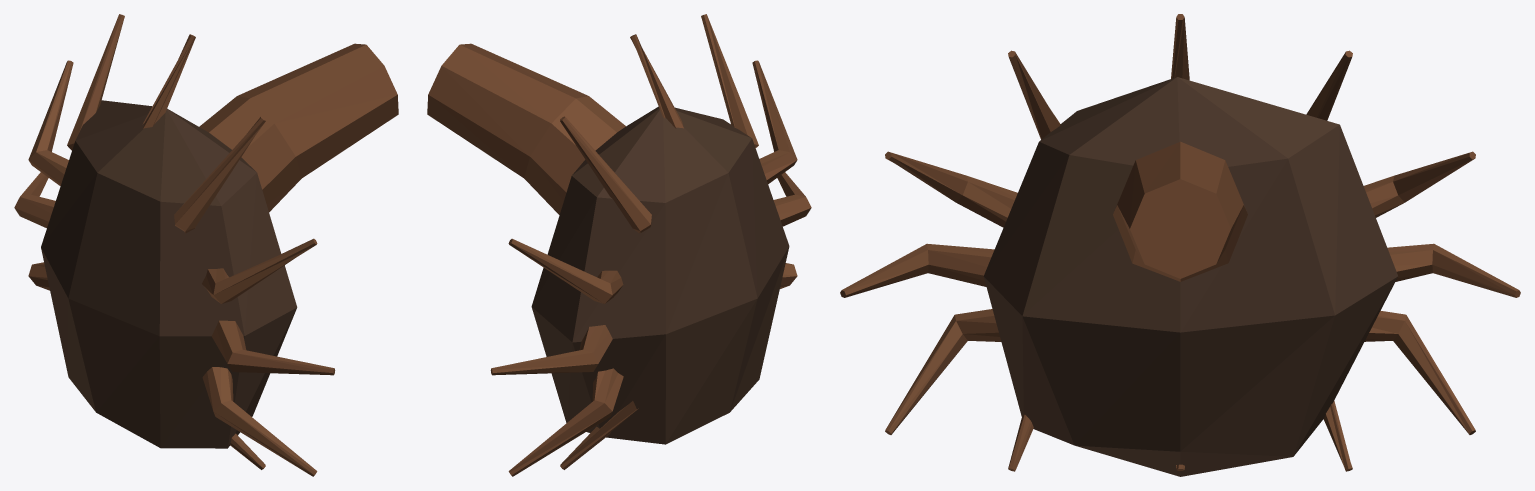
Rendered from Prop_Common_UpturnedRootBall_001.glb.
3 renders of one model, left to right at view 1: azimuth 30°, elevation 25°; view 2: azimuth 150°, elevation 25°; view 3: azimuth 270°, elevation 25°, orthographic. The views are drawn at different scales.
Visible parts, largest first — view 1: Prop_Common_UpturnedRootBall_001; view 2: Prop_Common_UpturnedRootBall_001; view 3: Prop_Common_UpturnedRootBall_001.
Part boxes in pixels (left/top/right/bottom): Prop_Common_UpturnedRootBall_001: left=14, top=14, right=398, bottom=476; Prop_Common_UpturnedRootBall_001: left=427, top=14, right=811, bottom=476; Prop_Common_UpturnedRootBall_001: left=840, top=14, right=1520, bottom=476.
Bounding box in the file's own units: 2.08 × 2.51 × 3.23.
